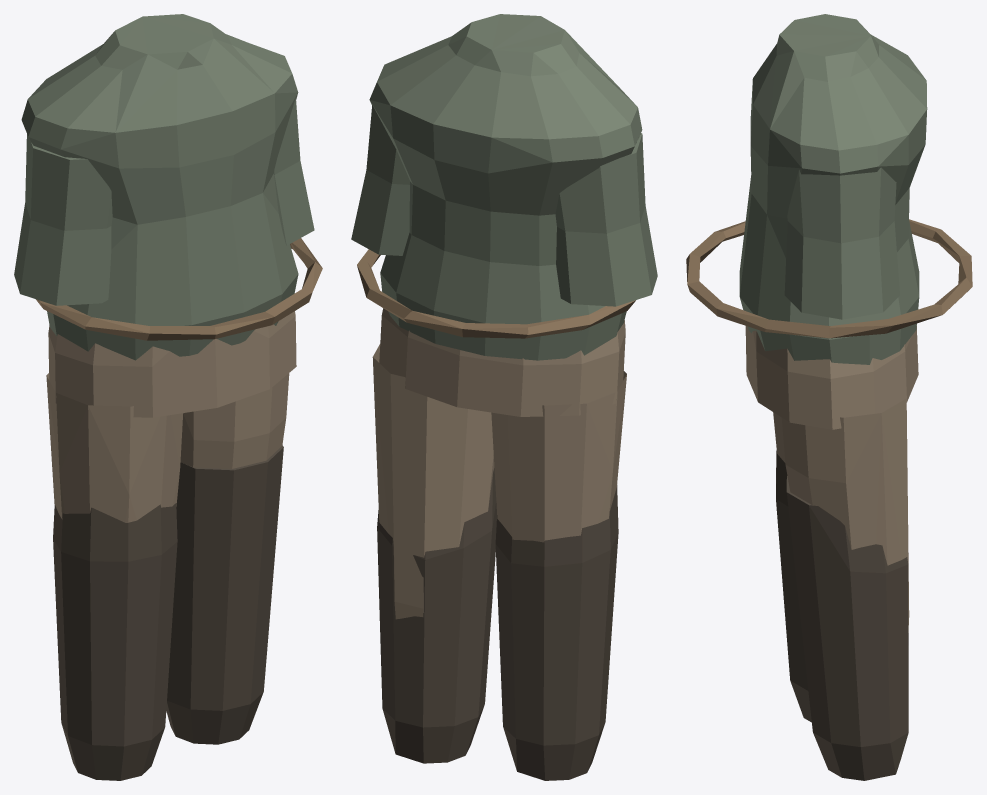
The model's file is 19-NPCs_vestimenta_pescador.glb.
3 views of the same model, side by side, from view 1: azimuth 30°, elevation 25°; view 2: azimuth 150°, elevation 25°; view 3: azimuth 270°, elevation 25° (orthographic). The views are drawn at different scales.
Visible parts, largest first — view 1: SM_Pesc_M_Pesc_Lona, SM_Pesc_M_Pesc_Goma, SM_Pesc_M_Pesc_Pantalon, SM_Pesc_M_Pesc_Cuero; view 2: SM_Pesc_M_Pesc_Lona, SM_Pesc_M_Pesc_Goma, SM_Pesc_M_Pesc_Pantalon, SM_Pesc_M_Pesc_Cuero; view 3: SM_Pesc_M_Pesc_Lona, SM_Pesc_M_Pesc_Goma, SM_Pesc_M_Pesc_Pantalon, SM_Pesc_M_Pesc_Cuero.
Boxes of the visible parts, bbox=[...] form: SM_Pesc_M_Pesc_Lona: bbox=[14, 14, 314, 360]; SM_Pesc_M_Pesc_Goma: bbox=[53, 445, 283, 780]; SM_Pesc_M_Pesc_Pantalon: bbox=[46, 311, 296, 522]; SM_Pesc_M_Pesc_Cuero: bbox=[36, 238, 322, 340]; SM_Pesc_M_Pesc_Lona: bbox=[351, 14, 657, 360]; SM_Pesc_M_Pesc_Goma: bbox=[377, 468, 618, 780]; SM_Pesc_M_Pesc_Pantalon: bbox=[372, 308, 626, 619]; SM_Pesc_M_Pesc_Cuero: bbox=[357, 249, 635, 338]; SM_Pesc_M_Pesc_Lona: bbox=[739, 14, 927, 364]; SM_Pesc_M_Pesc_Goma: bbox=[776, 450, 908, 780]; SM_Pesc_M_Pesc_Pantalon: bbox=[745, 326, 918, 632]; SM_Pesc_M_Pesc_Cuero: bbox=[686, 219, 972, 338].
Bounding box in the file's own units: 0.532 × 1.26 × 0.466.
